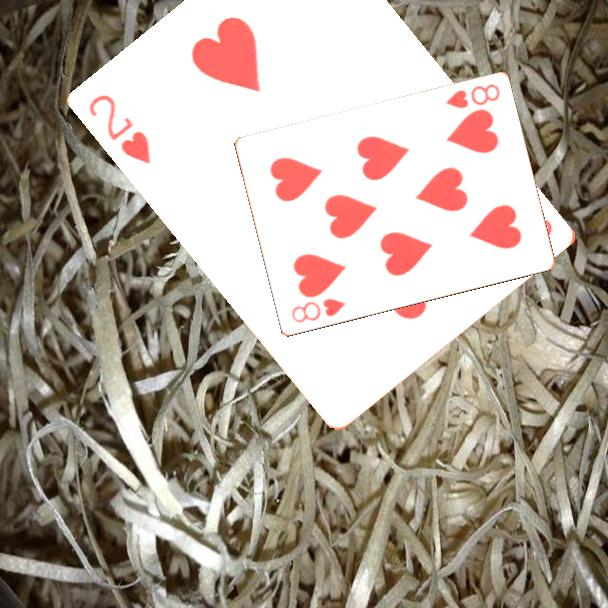h02: (86, 91, 155, 168)
h08: (442, 81, 503, 112), (288, 295, 348, 326)
